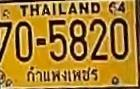0: (110, 17, 128, 59), (15, 20, 32, 61)
2: (89, 18, 108, 61)
5: (48, 19, 66, 60)
7: (0, 21, 11, 62)
8: (69, 18, 86, 60)
KPT: (24, 65, 100, 83)
